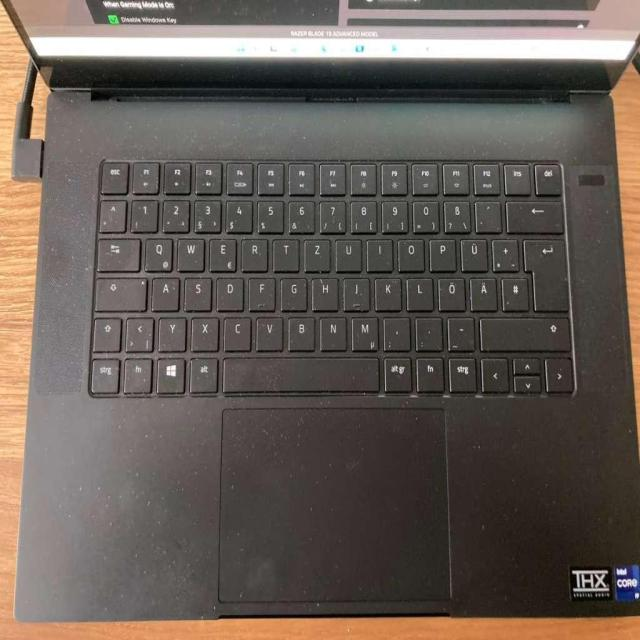0: (410, 197, 438, 231)
1: (128, 195, 157, 230)
2: (160, 196, 189, 230)
3: (191, 196, 220, 230)
4: (224, 196, 251, 230)
5: (255, 197, 283, 231)
6: (286, 197, 314, 232)
7: (318, 197, 345, 232)
8: (348, 197, 376, 232)
9: (379, 197, 407, 231)
a: (149, 273, 178, 309)
accent: (473, 197, 500, 230)
ae: (467, 273, 496, 309)
alt-left: (187, 353, 217, 391)
altgr-right: (381, 352, 411, 390)
b: (285, 313, 314, 349)
c: (221, 313, 250, 349)
caret: (97, 195, 125, 230)
comma: (380, 313, 409, 349)
d: (213, 273, 242, 309)
del: (504, 197, 561, 231)
e: (206, 233, 236, 269)
enter: (520, 234, 568, 310)
f: (246, 274, 274, 309)
g: (278, 273, 306, 309)
h: (309, 274, 337, 309)
hash: (499, 273, 527, 309)
i: (364, 235, 392, 269)
j: (340, 273, 368, 309)
k: (372, 273, 401, 309)
keyboard: (79, 154, 588, 408)
l: (404, 274, 431, 309)
less: (123, 312, 153, 350)
m: (348, 313, 377, 349)
minus: (444, 314, 473, 349)
n: (317, 313, 346, 349)
o: (395, 235, 424, 269)
oe: (434, 273, 464, 309)
p: (426, 235, 455, 269)
plus: (489, 234, 517, 269)
point: (413, 313, 441, 349)
q: (142, 233, 172, 269)
r: (239, 234, 267, 269)
s: (181, 273, 210, 309)
shift-left: (90, 312, 119, 350)
shift-lock: (93, 273, 145, 309)
shift-right: (477, 313, 568, 349)
space: (220, 352, 378, 391)
ss: (441, 197, 469, 231)
strg-left: (88, 353, 119, 392)
strg-right: (446, 353, 476, 390)
t: (270, 234, 298, 269)
tab: (95, 233, 139, 269)
u: (333, 235, 361, 270)
ue: (458, 234, 487, 270)
v: (253, 312, 282, 348)
w: (175, 233, 204, 269)
x: (188, 313, 218, 349)
y: (156, 312, 185, 350)
z: (301, 235, 329, 269)
